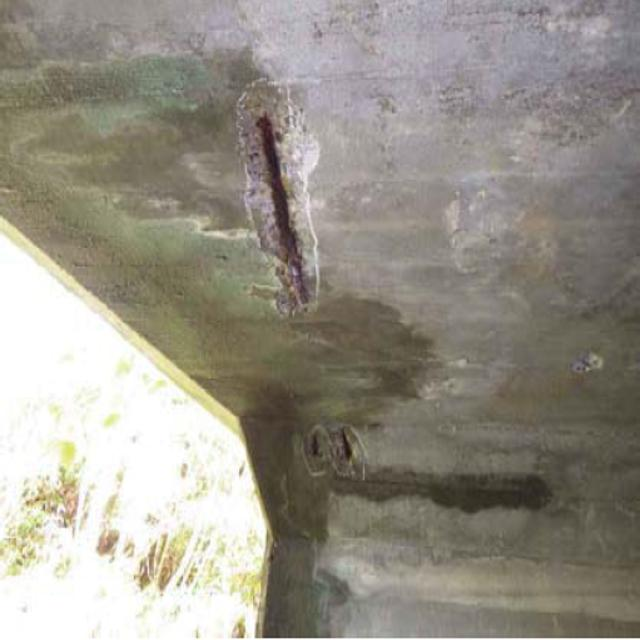spalling: (233, 96, 334, 310)
